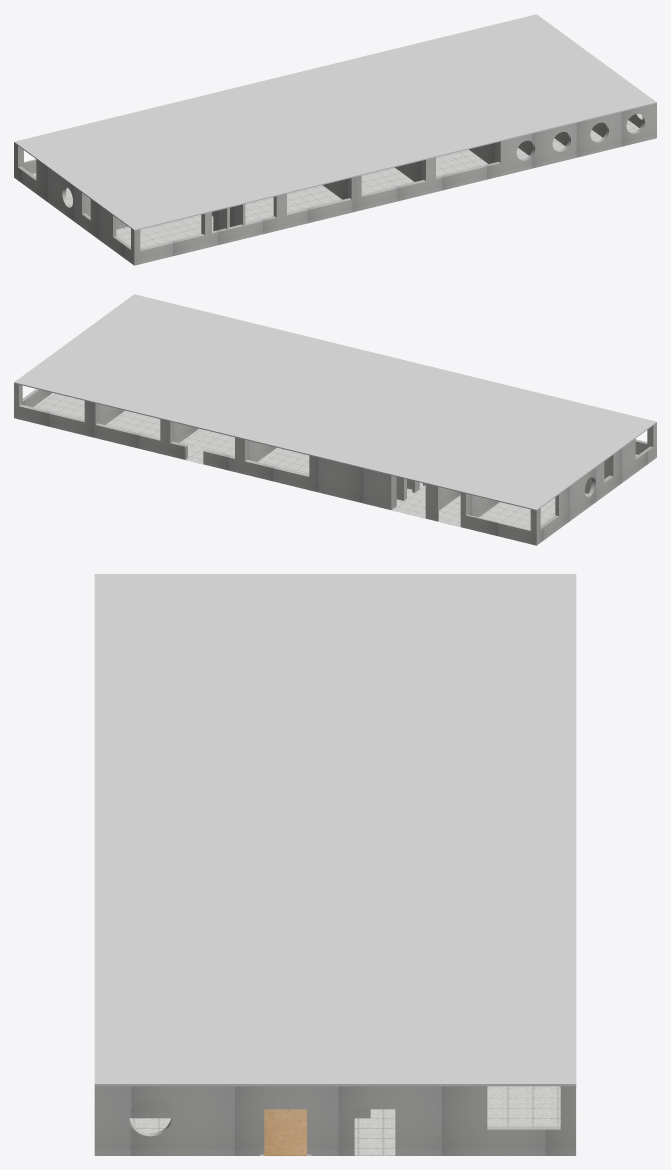
The model's file is roof_UAMT.dae.
3 views of the same model, one above another, from view 1: azimuth 30°, elevation 25°; view 2: azimuth 150°, elevation 25°; view 3: azimuth 270°, elevation 25° (orthographic). The views are drawn at different scales.
Visible parts, largest first — view 1: roof_UAMT, walls_UAMT, floor_rooms_UAMT; view 2: roof_UAMT, walls_UAMT, floor_rooms_UAMT; view 3: roof_UAMT, walls_UAMT, floor_rooms_UAMT, floor_corridor_UAMT.
Boxes of the visible parts, left/top/right/bottom form: roof_UAMT: left=14, top=14, right=656, bottom=230; walls_UAMT: left=14, top=103, right=656, bottom=265; floor_rooms_UAMT: left=32, top=120, right=654, bottom=264; roof_UAMT: left=14, top=294, right=656, bottom=510; walls_UAMT: left=14, top=383, right=656, bottom=545; floor_rooms_UAMT: left=15, top=393, right=647, bottom=545; roof_UAMT: left=94, top=574, right=576, bottom=1086; walls_UAMT: left=94, top=1086, right=575, bottom=1155; floor_rooms_UAMT: left=129, top=1086, right=576, bottom=1155; floor_corridor_UAMT: left=264, top=1109, right=306, bottom=1155.
Bounding box in the file's own units: 50.55 × 20.17 × 3.32.
